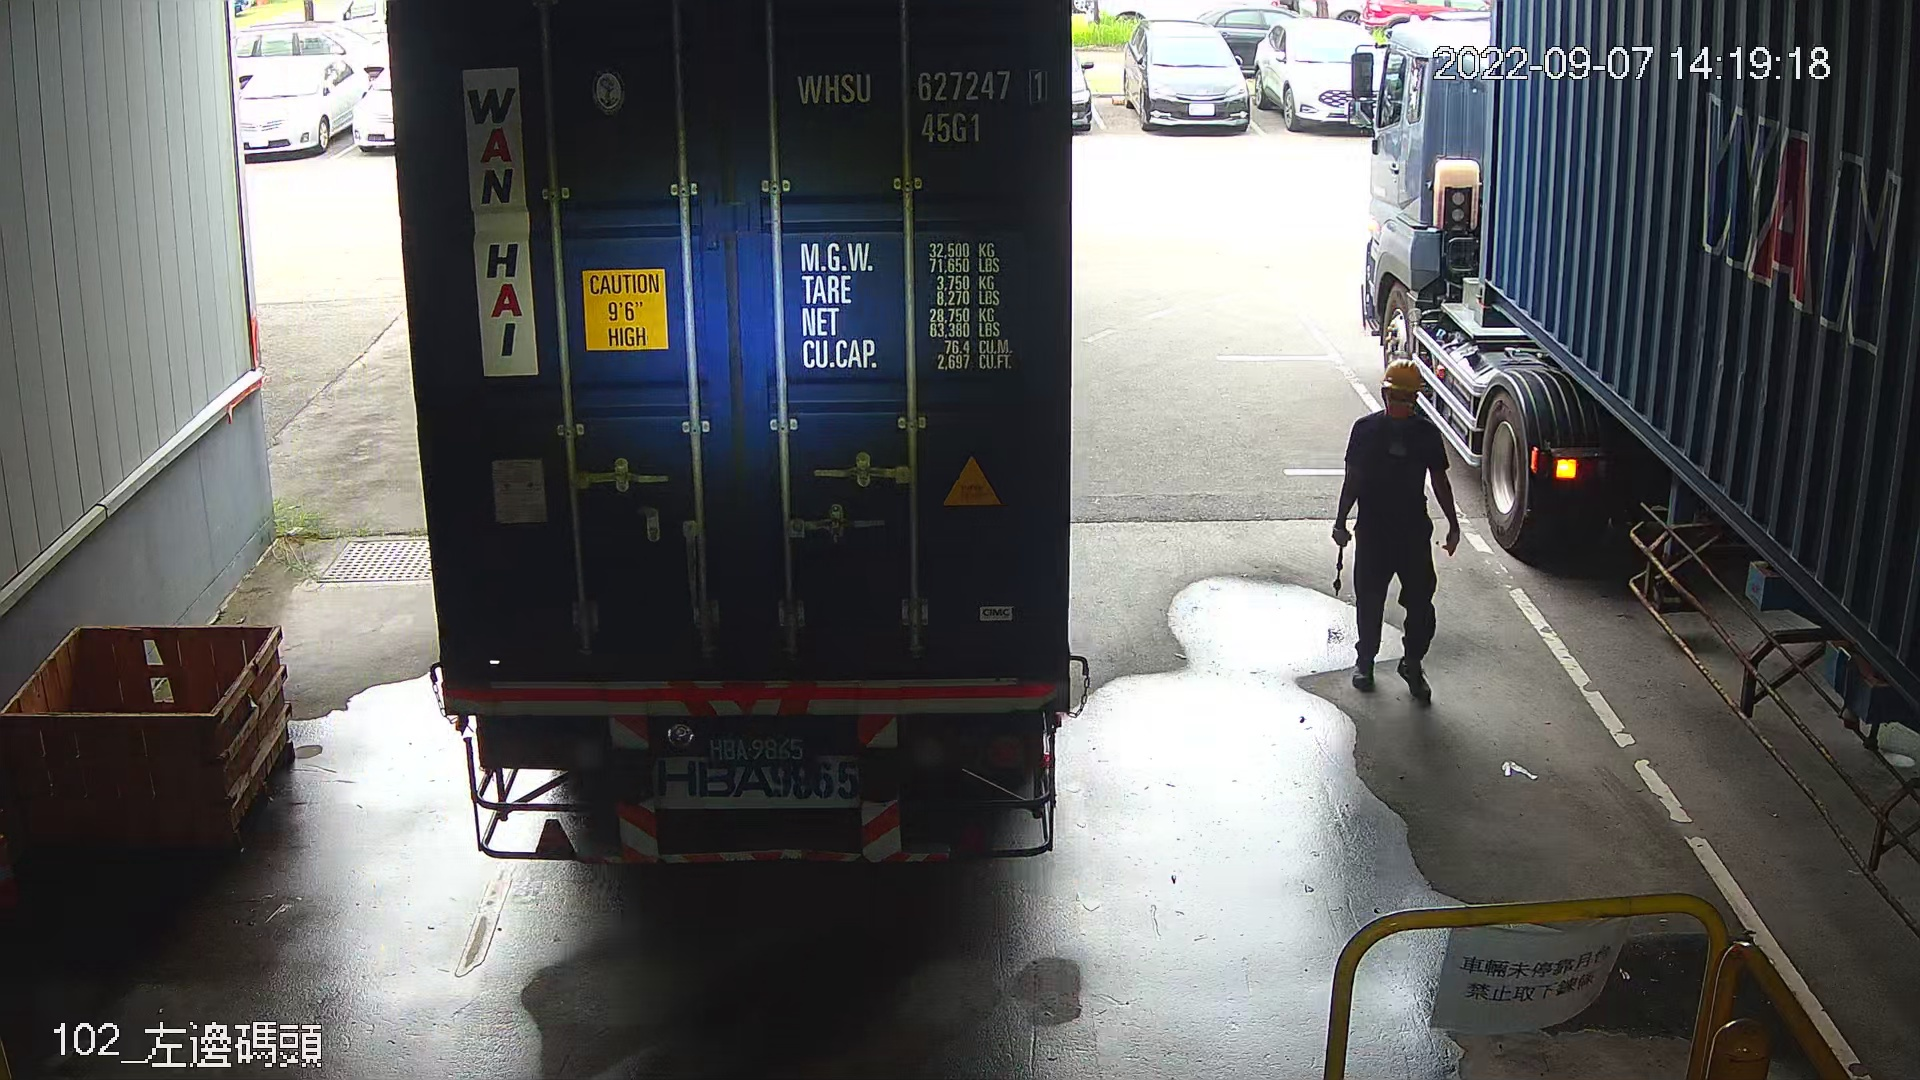container: (787, 61, 1056, 149)
